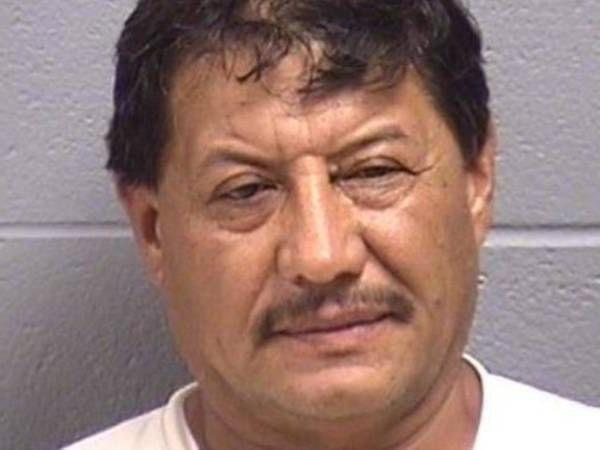Drunk: (145, 23, 488, 423)
